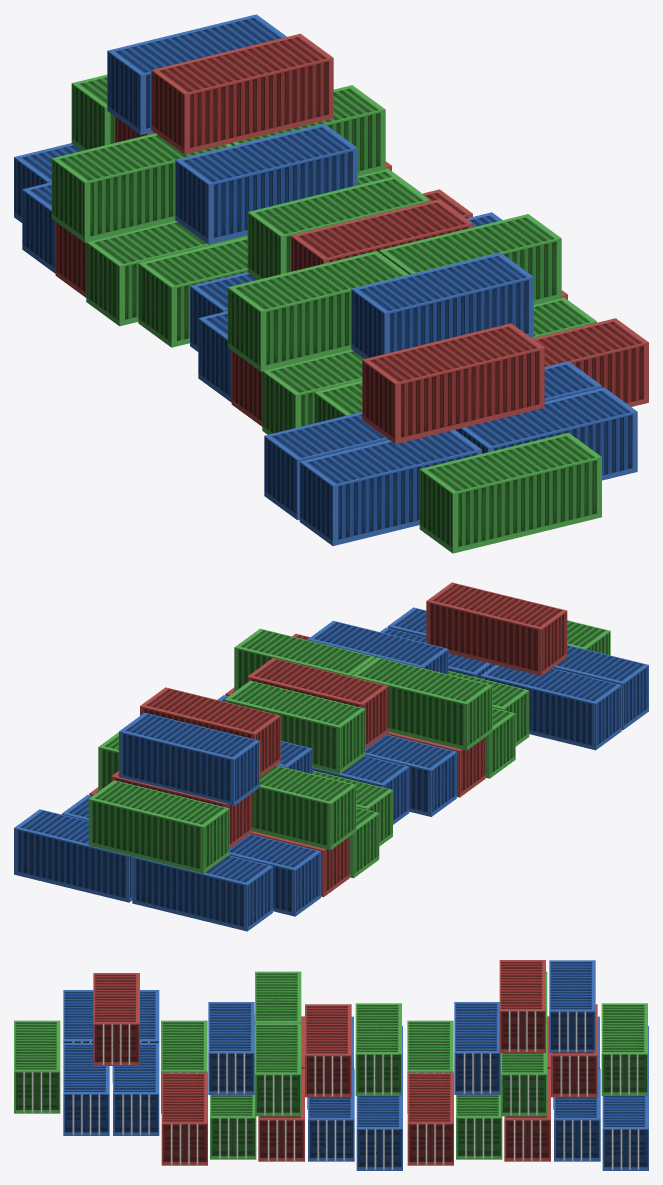
Rendered from containers.fbx.
The picture shows the model from 3 angles, top to bottom: view 1: azimuth 30°, elevation 25°; view 2: azimuth 150°, elevation 25°; view 3: azimuth 270°, elevation 25°; orthographic projection. The views are drawn at different scales.
Visible parts, largest first — view 1: pCube44, pCube51, pCube50, pCube26, pCube33, pCube35, pCube48, pCube24, pCube47, pCube45, pCube32, pCube34 (+17 smaller); view 2: pCube27, pCube51, pCube45, pCube35, pCube18, pCube17, pCube49, pCube24, pCube32, pCube44, pCube38, pCube39 (+17 smaller); view 3: pCube38, pCube50, pCube36, pCube20, pCube34, pCube45, pCube51, pCube44, pCube27, pCube32, pCube33, pCube26 (+17 smaller).
Part boxes in pixels (bbox=[...]): pCube44: bbox=[151, 33, 333, 154]; pCube51: bbox=[362, 323, 544, 444]; pCube50: bbox=[419, 432, 601, 553]; pCube26: bbox=[175, 123, 357, 244]; pCube33: bbox=[351, 252, 533, 358]; pCube35: bbox=[227, 251, 408, 371]; pCube48: bbox=[299, 430, 481, 545]; pCube24: bbox=[51, 133, 232, 242]; pCube47: bbox=[455, 387, 637, 480]; pCube45: bbox=[107, 14, 286, 135]; pCube32: bbox=[247, 175, 429, 279]; pCube34: bbox=[379, 214, 561, 304]; pCube27: bbox=[88, 780, 229, 873]; pCube51: bbox=[426, 582, 567, 675]; pCube45: bbox=[119, 712, 259, 805]; pCube35: bbox=[351, 657, 492, 750]; pCube18: bbox=[132, 855, 272, 931]; pCube17: bbox=[14, 809, 132, 902]; pCube49: bbox=[480, 664, 621, 750]; pCube24: bbox=[252, 765, 356, 850]; pCube32: bbox=[224, 680, 365, 773]; pCube44: bbox=[140, 687, 280, 776]; pCube38: bbox=[247, 658, 388, 748]; pCube39: bbox=[365, 734, 456, 816]; pCube38: bbox=[305, 1004, 351, 1097]; pCube50: bbox=[14, 1020, 60, 1113]; pCube36: bbox=[161, 1072, 207, 1165]; pCube20: bbox=[407, 1072, 453, 1165]; pCube34: bbox=[255, 1023, 301, 1116]; pCube45: bbox=[549, 960, 595, 1053]; pCube51: bbox=[93, 973, 139, 1065]; pCube44: bbox=[499, 960, 545, 1052]; pCube27: bbox=[601, 1003, 647, 1095]; pCube32: bbox=[355, 1003, 401, 1095]; pCube33: bbox=[208, 1002, 254, 1094]; pCube26: bbox=[454, 1002, 500, 1094].
Bounding box in the file's own units: 78.44 × 34.61 × 153.
